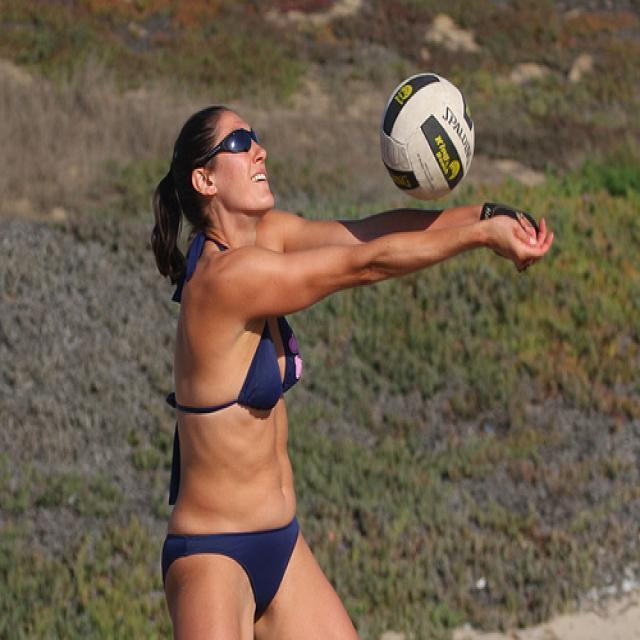volleyball: (380, 73, 475, 198)
